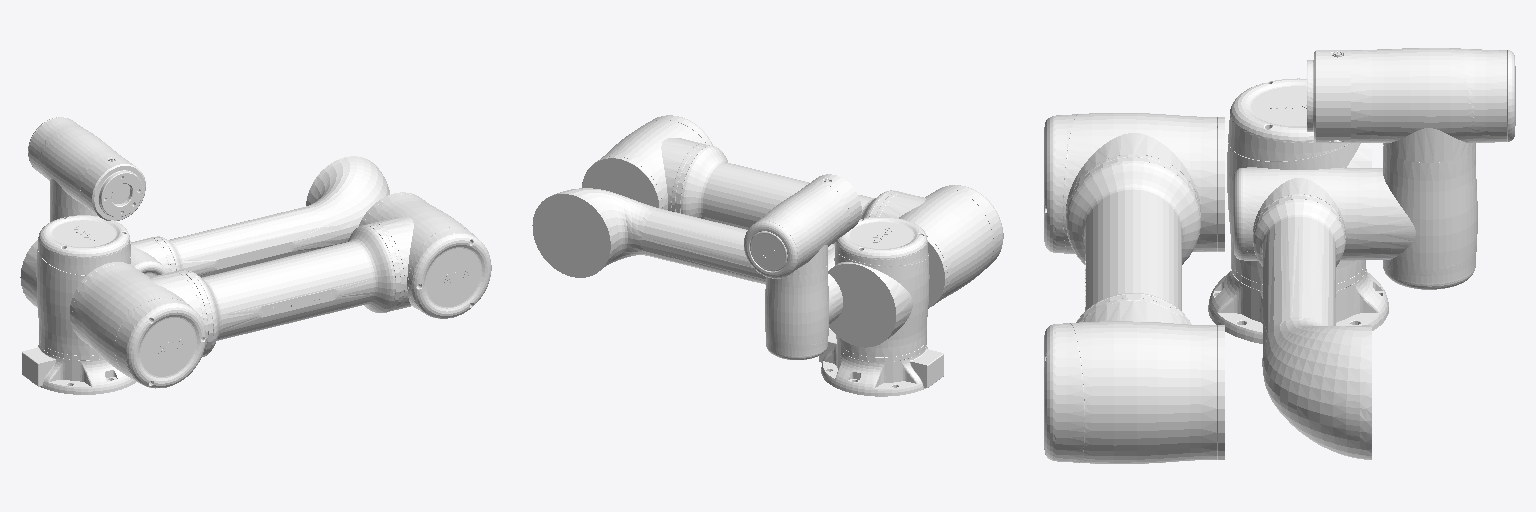
robot.urdf — jaka5:
<?xml version="1.0" encoding="utf-8" ?>
<!-- This URDF was automatically created by SolidWorks to URDF Exporter! Originally created by [author] ([email redacted]) 
     Commit Version: 1.5.1-0-g916b5db  Build Version: 1.5.7152.31018
     For more information, please see http://wiki.ros.org/sw_urdf_exporter -->
<robot name="jaka5">
    <link name="dummy" />
    <link name="Link_0">
        <inertial>
            <origin xyz="0.00096513 -2.0436E-07 0.019553" rpy="0 0 0" />
            <mass value="0.51461" />
            <inertia ixx="0.00062136" ixy="3.6749E-09" ixz="3.217E-06" iyy="0.00086645" iyz="-6.8254E-11" izz="0.0013529" />
        </inertial>
        <visual>
            <origin xyz="0 0 0" rpy="0 0 0" />
            <geometry>
                <mesh filename="package://jaka5/meshes/Link_0.STL" />
            </geometry>
            <material name="">
                <color rgba="1 1 1 1" />
            </material>
        </visual>
        <collision>
            <origin xyz="0 0 0" rpy="0 0 0" />
            <geometry>
                <mesh filename="package://jaka5/meshes/Link_0.STL" />
            </geometry>
        </collision>
    </link>
    <joint name="dummy_joint" type="fixed">
        <parent link="dummy" />
        <child link="Link_0" />
    </joint>
    <link name="Link_1">
        <inertial>
            <origin xyz="-9.95605124254965E-07 0.00332172375841702 -0.00151307453678093" rpy="0 0 0" />
            <mass value="1.92814665834042" />
            <inertia ixx="0.00564332197967496" ixy="-2.06406149514884E-08" ixz="-1.29468636330218E-08" iyy="0.00548947482538077" iyz="1.93161087253138E-06" izz="0.00388876051174396" />
        </inertial>
        <visual>
            <origin xyz="0 0 0" rpy="0 0 0" />
            <geometry>
                <mesh filename="package://jaka5/meshes/Link_1.STL" />
            </geometry>
            <material name="">
                <color rgba="1 1 1 1" />
            </material>
        </visual>
        <collision>
            <origin xyz="0 0 0" rpy="0 0 0" />
            <geometry>
                <mesh filename="package://jaka5/meshes/Link_1.STL" />
            </geometry>
        </collision>
    </link>
    <joint name="joint_1" type="revolute">
        <origin xyz="0 0 0.12015" rpy="0 0 0" />
        <parent link="Link_0" />
        <child link="Link_1" />
        <axis xyz="0 0 -1" />
        <limit lower="-1.57" upper="1.57" effort="0" velocity="0" />
    </joint>
    <link name="Link_2">
        <inertial>
            <origin xyz="0.215 -1.0479E-06 -0.14314" rpy="0 0 0" />
            <mass value="5.8403" />
            <inertia ixx="0.013217" ixy="-4.2369E-08" ixz="3.2254E-08" iyy="0.030588" iyz="4.7703E-08" izz="0.02708" />
        </inertial>
        <visual>
            <origin xyz="0 0 0" rpy="0 0 0" />
            <geometry>
                <mesh filename="package://jaka5/meshes/Link_2.STL" />
            </geometry>
            <material name="">
                <color rgba="1 1 1 1" />
            </material>
        </visual>
        <collision>
            <origin xyz="0 0 0" rpy="0 0 0" />
            <geometry>
                <mesh filename="package://jaka5/meshes/Link_2.STL" />
            </geometry>
        </collision>
    </link>
    <joint name="joint_2" type="revolute">
        <origin xyz="0 0 0" rpy="1.5708 0 0" />
        <parent link="Link_1" />
        <child link="Link_2" />
        <axis xyz="0 0 1" />
        <limit lower="-1.57" upper="1.57" effort="0" velocity="0" />
    </joint>
    <link name="Link_3">
        <inertial>
            <origin xyz="0.19089 1.3765E-05 0.010586" rpy="0 0 0" />
            <mass value="2.3017" />
            <inertia ixx="0.0025225" ixy="1.2415E-07" ixz="0.002074" iyy="0.021482" iyz="-6.8365E-09" izz="0.021056" />
        </inertial>
        <visual>
            <origin xyz="0 0 0" rpy="0 0 0" />
            <geometry>
                <mesh filename="package://jaka5/meshes/Link_3.STL" />
            </geometry>
            <material name="">
                <color rgba="1 1 1 1" />
            </material>
        </visual>
        <collision>
            <origin xyz="0 0 0" rpy="0 0 0" />
            <geometry>
                <mesh filename="package://jaka5/meshes/Link_3.STL" />
            </geometry>
        </collision>
    </link>
    <joint name="joint_3" type="revolute">
        <origin xyz="0.43 0 0" rpy="3.1416 0 3.1416" />
        <parent link="Link_2" />
        <child link="Link_3" />
        <axis xyz="0 0 1" />
        <limit lower="-1.57" upper="1.57" effort="0" velocity="0" />
    </joint>
    <link name="Link_4">
        <inertial>
            <origin xyz="-2.0226E-07 -0.0058003 0.002672" rpy="0 0 0" />
            <mass value="0.70739" />
            <inertia ixx="0.0009036" ixy="1.1543E-09" ixz="1.0567E-08" iyy="0.0006597" iyz="-5.0745E-05" izz="0.00087292" />
        </inertial>
        <visual>
            <origin xyz="0 0 0" rpy="0 0 0" />
            <geometry>
                <mesh filename="package://jaka5/meshes/Link_4.STL" />
            </geometry>
            <material name="">
                <color rgba="1 1 1 1" />
            </material>
        </visual>
        <collision>
            <origin xyz="0 0 0" rpy="0 0 0" />
            <geometry>
                <mesh filename="package://jaka5/meshes/Link_4.STL" />
            </geometry>
        </collision>
    </link>
    <joint name="joint_4" type="revolute">
        <origin xyz="0.3685 1.185E-05 0.114" rpy="-3.1416 0 0" />
        <parent link="Link_3" />
        <child link="Link_4" />
        <axis xyz="0 0 -1" />
        <limit lower="-1.57" upper="1.57" effort="0" velocity="0" />
    </joint>
    <link name="Link_5">
        <inertial>
            <origin xyz="1.8861E-07 0.002889 0.0023423" rpy="0 0 0" />
            <mass value="0.80693" />
            <inertia ixx="0.0016459" ixy="-7.6172E-10" ixz="2.2728E-08" iyy="0.00074471" iyz="5.477E-06" izz="0.0016086" />
        </inertial>
        <visual>
            <origin xyz="0 0 0" rpy="0 0 0" />
            <geometry>
                <mesh filename="package://jaka5/meshes/Link_5.STL" />
            </geometry>
            <material name="">
                <color rgba="1 1 1 1" />
            </material>
        </visual>
        <collision>
            <origin xyz="0 0 0" rpy="0 0 0" />
            <geometry>
                <mesh filename="package://jaka5/meshes/Link_5.STL" />
            </geometry>
        </collision>
    </link>
    <joint name="joint_5" type="revolute">
        <origin xyz="0 -0.1135 0" rpy="-1.5708 0 0" />
        <parent link="Link_4" />
        <child link="Link_5" />
        <axis xyz="0 0 -1" />
        <limit lower="-1.57" upper="1.57" effort="0" velocity="0" />
    </joint>
    <link name="Link_6">
        <inertial>
            <origin xyz="2.7623E-05 1.3562E-05 0.020245" rpy="0 0 0" />
            <mass value="0.18049" />
            <inertia ixx="9.0917E-05" ixy="8.7377E-08" ixz="8.113E-08" iyy="9.218E-05" iyz="2.0242E-07" izz="0.00014381" />
        </inertial>
        <visual>
            <origin xyz="0 0 0" rpy="0 0 0" />
            <geometry>
                <mesh filename="package://jaka5/meshes/Link_6.STL" />
            </geometry>
            <material name="">
                <color rgba="1 1 1 1" />
            </material>
        </visual>
        <collision>
            <origin xyz="0 0 0" rpy="0 0 0" />
            <geometry>
                <mesh filename="package://jaka5/meshes/Link_6.STL" />
            </geometry>
        </collision>
    </link>
    <joint name="joint_6" type="revolute">
        <origin xyz="0 -0.106 0" rpy="-1.5708 0 0" />
        <parent link="Link_5" />
        <child link="Link_6" />
        <axis xyz="0 0 -1" />
        <limit lower="-1.57" upper="1.57" effort="0" velocity="0" />
    </joint>
    <!--transmission name="trans_joint_1">
        <type>transmission_interface/SimpleTransmission</type>
        <joint name="joint_1">
            <hardwareInterface>hardware_interface/EffortJointInterface</hardwareInterface>
        </joint>
        <actuator name="joint_1_motor">
            <hardwareInterface>hardware_interface/EffortJointInterface</hardwareInterface>
            <mechanicalReduction>1</mechanicalReduction>
        </actuator>
    </transmission>
    <transmission name="trans_joint_2">
        <type>transmission_interface/SimpleTransmission</type>
        <joint name="joint_2">
            <hardwareInterface>hardware_interface/EffortJointInterface</hardwareInterface>
        </joint>
        <actuator name="joint_2_motor">
            <hardwareInterface>hardware_interface/EffortJointInterface</hardwareInterface>
            <mechanicalReduction>1</mechanicalReduction>
        </actuator>
    </transmission>
    <transmission name="trans_joint_3">
        <type>transmission_interface/SimpleTransmission</type>
        <joint name="joint_3">
            <hardwareInterface>hardware_interface/EffortJointInterface</hardwareInterface>
        </joint>
        <actuator name="joint_3_motor">
            <hardwareInterface>hardware_interface/EffortJointInterface</hardwareInterface>
            <mechanicalReduction>1</mechanicalReduction>
        </actuator>
    </transmission>
    <transmission name="trans_joint_4">
        <type>transmission_interface/SimpleTransmission</type>
        <joint name="joint_4">
            <hardwareInterface>hardware_interface/EffortJointInterface</hardwareInterface>
        </joint>
        <actuator name="joint_4_motor">
            <hardwareInterface>hardware_interface/EffortJointInterface</hardwareInterface>
            <mechanicalReduction>1</mechanicalReduction>
        </actuator>
    </transmission>
    <transmission name="trans_joint_5">
        <type>transmission_interface/SimpleTransmission</type>
        <joint name="joint_5">
            <hardwareInterface>hardware_interface/EffortJointInterface</hardwareInterface>
        </joint>
        <actuator name="joint_5_motor">
            <hardwareInterface>hardware_interface/EffortJointInterface</hardwareInterface>
            <mechanicalReduction>1</mechanicalReduction>
        </actuator>
    </transmission>
    <transmission name="trans_joint_6">
        <type>transmission_interface/SimpleTransmission</type>
        <joint name="joint_6">
            <hardwareInterface>hardware_interface/EffortJointInterface</hardwareInterface>
        </joint>
        <actuator name="joint_6_motor">
            <hardwareInterface>hardware_interface/EffortJointInterface</hardwareInterface>
            <mechanicalReduction>1</mechanicalReduction>
        </actuator>
    </transmission-->
    <gazebo>
        <plugin name="gazebo_ros_control">
            <robotNamespace>/</robotNamespace>
        </plugin>
    </gazebo>
</robot>

--- What the picture shows (computed from the rendered views, not written in the file) ---
Views: 3 orthographic renders of the robot side by side, from view 1: azimuth 30°, elevation 25°; view 2: azimuth 150°, elevation 25°; view 3: azimuth 270°, elevation 25°.
Robot: jaka5 — 8 links, 7 joints (6 revolute, 1 fixed); root link dummy; default pose: every joint at zero.
Visible links, largest first — view 1: Link_2, Link_3, Link_1, Link_5, Link_0, Link_6; view 2: Link_2, Link_3, Link_1, Link_5, Link_4, Link_0, Link_6; view 3: Link_2, Link_3, Link_5, Link_4, Link_1, Link_0, Link_6.
Link boxes in pixels (left/top/right/bottom): Link_2: left=70, top=192, right=491, bottom=388; Link_3: left=130, top=156, right=389, bottom=277; Link_1: left=20, top=215, right=130, bottom=360; Link_5: left=28, top=117, right=121, bottom=209; Link_0: left=22, top=344, right=135, bottom=394; Link_6: left=81, top=155, right=145, bottom=220; Link_2: left=582, top=115, right=1003, bottom=308; Link_3: left=532, top=188, right=842, bottom=320; Link_1: left=828, top=217, right=929, bottom=361; Link_5: left=744, top=183, right=849, bottom=278; Link_4: left=765, top=265, right=840, bottom=359; Link_0: left=819, top=330, right=943, bottom=396; Link_6: left=806, top=174, right=861, bottom=234; Link_2: left=1044, top=113, right=1224, bottom=463; Link_3: left=1234, top=167, right=1376, bottom=459; Link_5: left=1351, top=48, right=1515, bottom=162; Link_4: left=1377, top=145, right=1477, bottom=289; Link_1: left=1227, top=78, right=1371, bottom=291; Link_0: left=1208, top=269, right=1388, bottom=343; Link_6: left=1307, top=50, right=1350, bottom=142.
Bounding box of the posed robot: 0.5745 × 0.4107 × 0.2758 m (x, y, z).
Meshes: 7 distinct files referenced, 7 mesh visuals loaded (7 binary STL).
